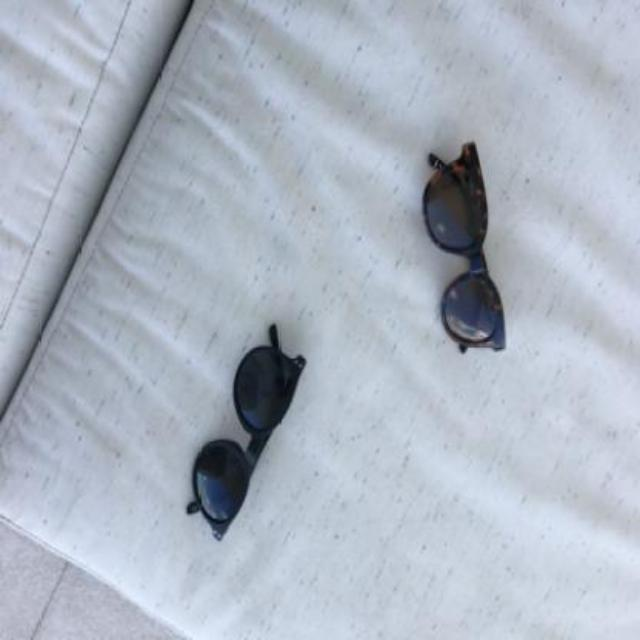sunglasses: (184, 324, 306, 540), (421, 138, 505, 354)
